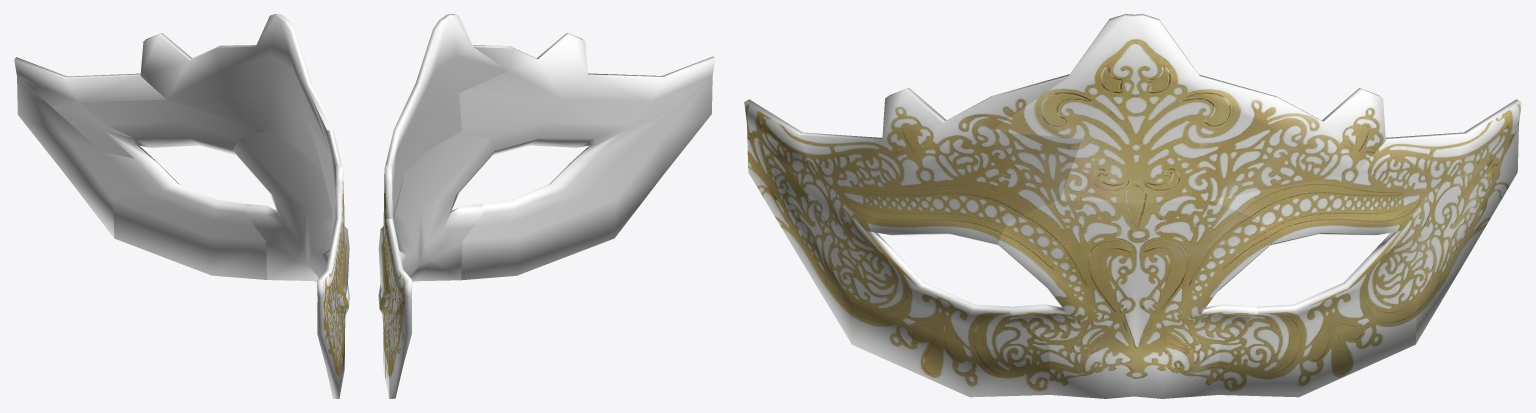
File: lowPoly SHATTERED masquerade mask.fbx
3 renders of one model, left to right at view 1: azimuth 30°, elevation 25°; view 2: azimuth 150°, elevation 25°; view 3: azimuth 270°, elevation 25°, orthographic. The views are drawn at different scales.
Parts seen in each view (by area): view 1: Plane.003, Plane.002, Plane.004, Plane, Plane.001; view 2: Plane.001, Plane, Plane.002, Plane.004, Plane.003; view 3: Plane.001, Plane.002, Plane, Plane.003, Plane.004.
Boxes of the visible parts, bbox=[...] form: Plane.003: bbox=[79, 99, 266, 279]; Plane.002: bbox=[140, 14, 333, 171]; Plane.004: bbox=[14, 57, 166, 237]; Plane: bbox=[233, 130, 334, 282]; Plane.001: bbox=[306, 86, 349, 398]; Plane.001: bbox=[459, 33, 715, 280]; Plane: bbox=[393, 131, 495, 281]; Plane.002: bbox=[383, 14, 512, 224]; Plane.004: bbox=[383, 218, 412, 398]; Plane.003: bbox=[378, 179, 403, 398]; Plane.001: bbox=[744, 77, 1081, 397]; Plane.002: bbox=[990, 14, 1385, 203]; Plane: bbox=[997, 199, 1270, 398]; Plane.003: bbox=[1209, 166, 1452, 397]; Plane.004: bbox=[1356, 99, 1521, 344].
Size of the model in its own units: 149 by 261 by 480.
